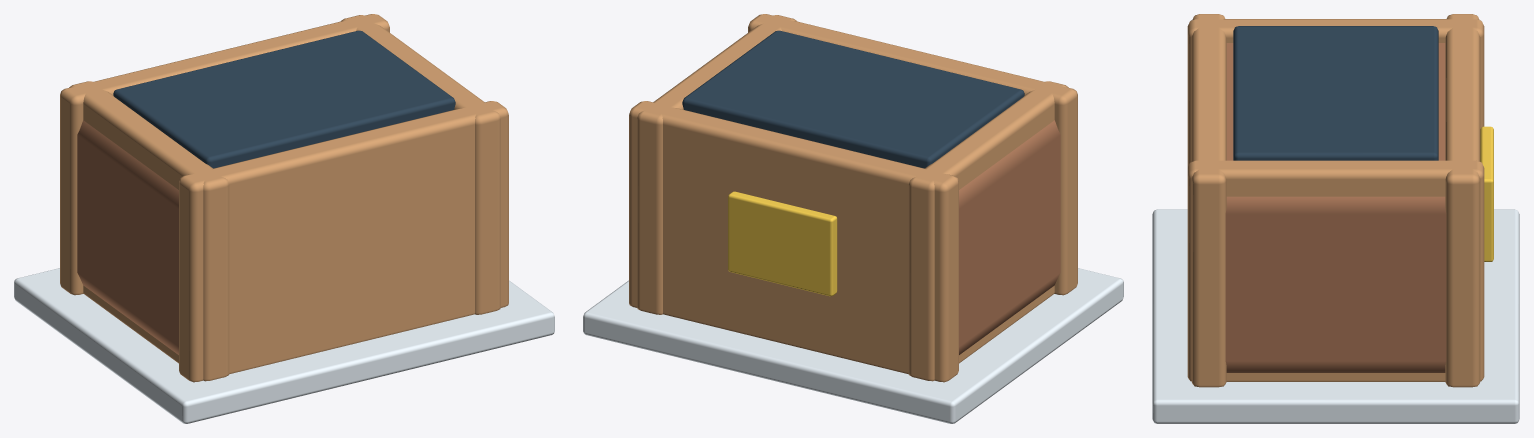
File: cargo_crate.glb
3 views of the same model, side by side, from view 1: azimuth 30°, elevation 25°; view 2: azimuth 150°, elevation 25°; view 3: azimuth 270°, elevation 25° (orthographic). The views are drawn at different scales.
Visible parts, largest first — view 1: cargo_crate; view 2: cargo_crate; view 3: cargo_crate.
Part boxes in pixels (<box>): cargo_crate: <box>14,14,554,423</box>; cargo_crate: <box>583,14,1123,423</box>; cargo_crate: <box>1152,14,1519,423</box>.
Size of the model in its own units: 1.7 by 0.98 by 1.36.
